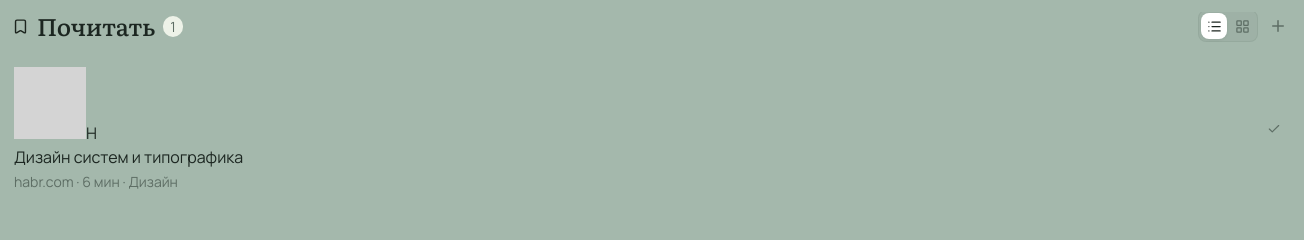
Test: ScratchpadWidget & ReadingShelfWidget UI › переключает режим отображения между списком и плитками и отображает квадратные миниатюры
The image size is (1304, 240).
Click the button named "Отображение плитками": (1242, 26) [1229,13,1255,39]
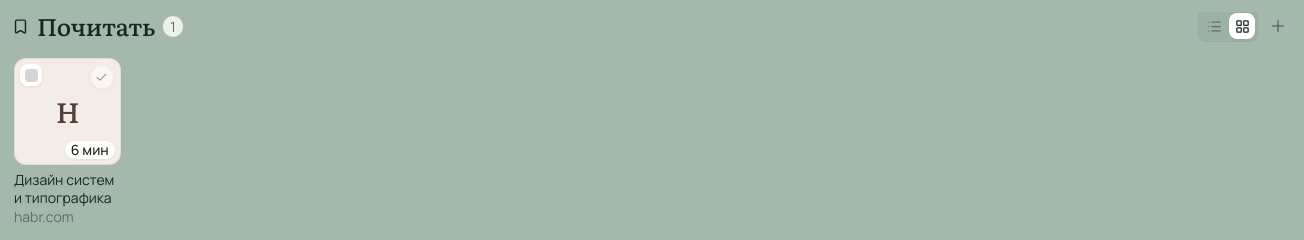
Check: the element with class "reading-shelf-tile" is shown, box [14,58,121,224]
Check: the element with class "reading-tile-thumb" is shown, box [14,58,121,165]
Check: the element with class "reading-tile-thumb" shows "мин", box [80,140,109,159]
Switch back to list view
Click the button named "Отображение списком": (1214, 26) [1201,13,1227,39]
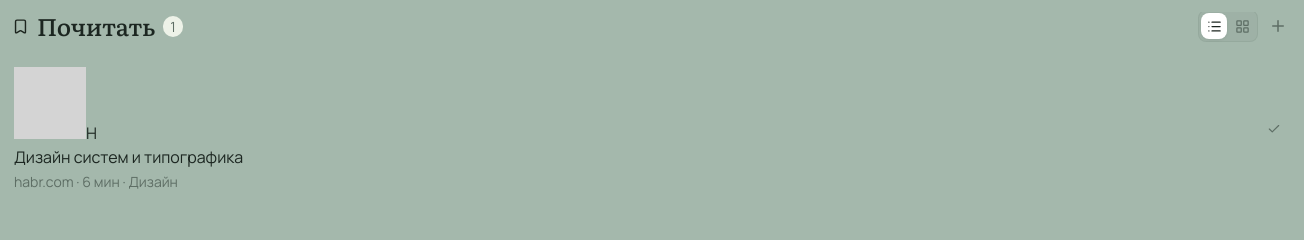
Check: the element with class "reading-shelf-list" is shown
